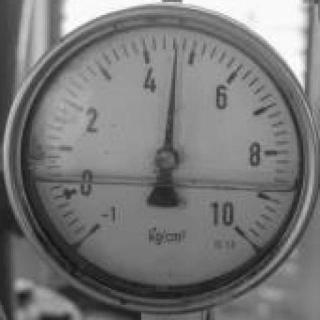gauge: (0, 0, 320, 320), (74, 201, 126, 253), (150, 144, 180, 175), (221, 212, 250, 244), (170, 34, 182, 56)
